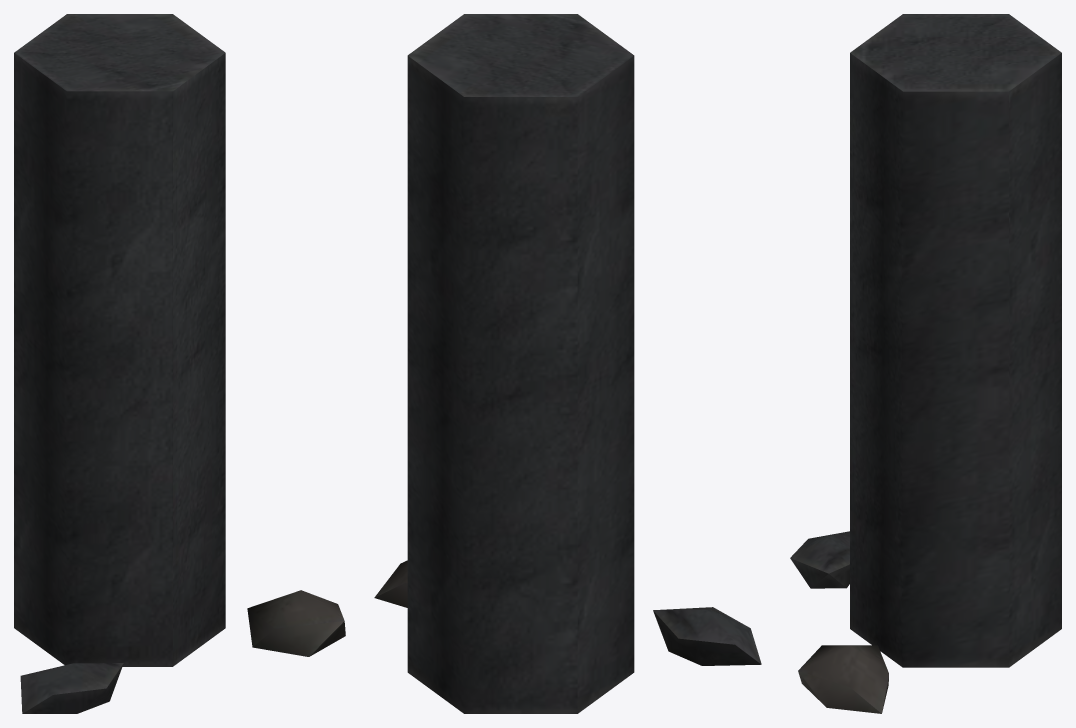
The model's file is basalt_column_0.glb.
The picture shows the model from 3 angles, left to right: view 1: azimuth 30°, elevation 25°; view 2: azimuth 150°, elevation 25°; view 3: azimuth 270°, elevation 25°; orthographic projection. The views are drawn at different scales.
Parts seen in each view (by area): view 1: te_prop_basalt_column_0; view 2: te_prop_basalt_column_0; view 3: te_prop_basalt_column_0.
Part boxes in pixels (x1,y1,x2,y2): te_prop_basalt_column_0: (14, 14, 345, 713); te_prop_basalt_column_0: (374, 14, 761, 713); te_prop_basalt_column_0: (790, 14, 1061, 713).
Bounding box in the file's own units: 0.1828 × 0.3 × 0.1283.
Materials: 1 (1 with a texture image).
